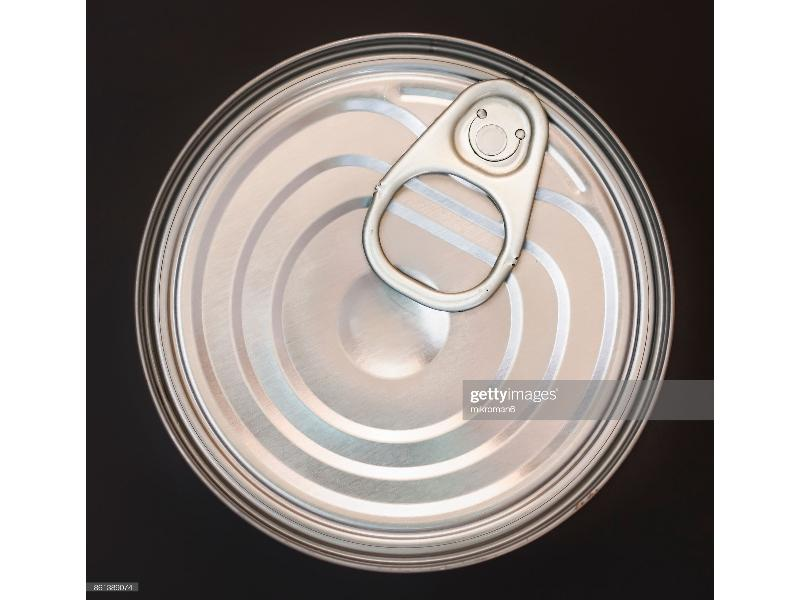can: (128, 31, 678, 575)
